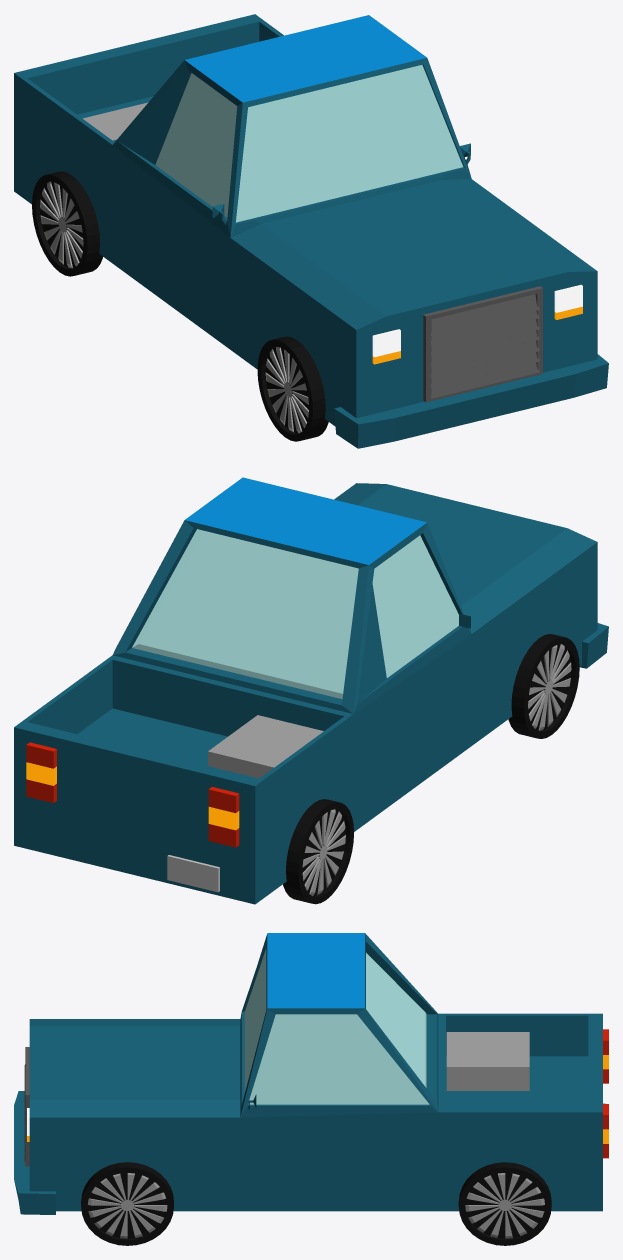
The model's file is Cartoon_Cars_Blend2.glb.
3 views of the same model, one above another, from view 1: azimuth 30°, elevation 25°; view 2: azimuth 150°, elevation 25°; view 3: azimuth 270°, elevation 25° (orthographic). The views are drawn at different scales.
Visible parts, largest first — view 1: 3, Cylinder.015, Plane.004, Cube.018; view 2: 3, Cylinder.015, Cube.016, Cube.015; view 3: 3, Cylinder.015, Cube.016, Plane.004.
Boxes of the visible parts, x1,y1,x2,y2 form: 3: [14, 14, 608, 448]; Cylinder.015: [32, 171, 328, 441]; Plane.004: [423, 286, 542, 402]; Cube.018: [372, 284, 582, 364]; 3: [14, 477, 608, 904]; Cylinder.015: [283, 634, 579, 904]; Cube.016: [26, 742, 239, 847]; Cube.015: [167, 855, 219, 892]; 3: [14, 933, 602, 1214]; Cylinder.015: [81, 1162, 551, 1245]; Cube.016: [603, 1029, 608, 1158]; Plane.004: [24, 1047, 29, 1166].
Size of the model in its own units: 2.81 by 2.65 by 6.49.
